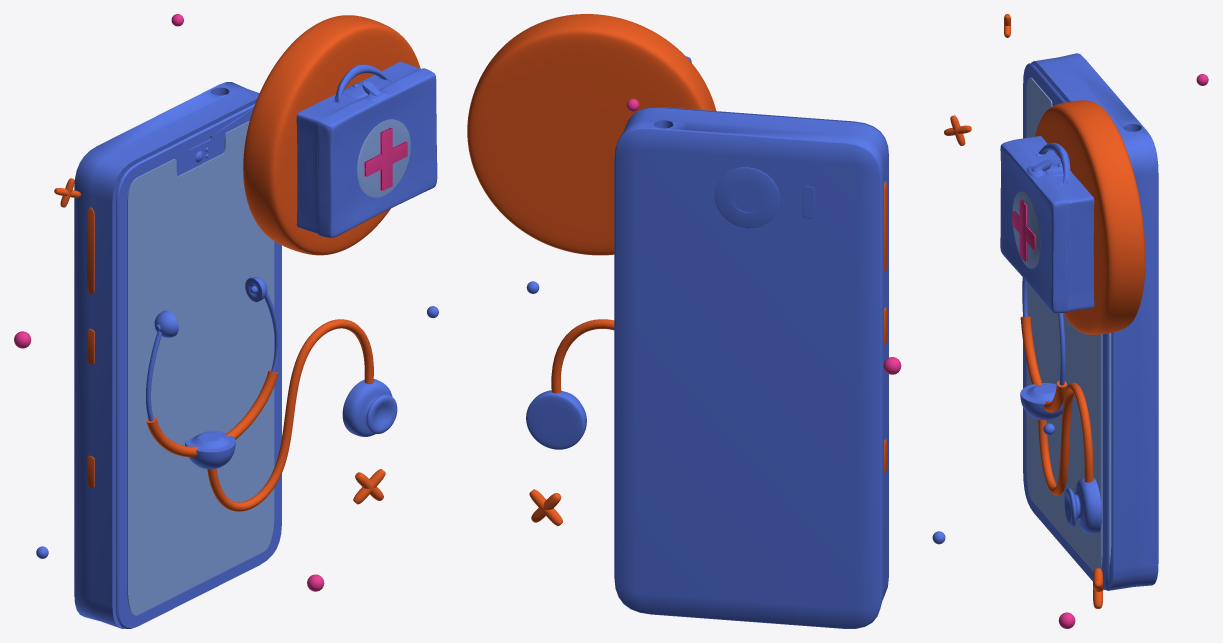
The model's file is digital-medicine-3d-animated-icon-837897220875.glb.
3 renders of one model, left to right at view 1: azimuth 30°, elevation 25°; view 2: azimuth 150°, elevation 25°; view 3: azimuth 270°, elevation 25°, orthographic. The views are drawn at different scales.
Parts seen in each view (by area): view 1: handphone, health suitcase, Cylinder, stetoskop, element plus; view 2: handphone, Cylinder, stetoskop, element plus; view 3: handphone, health suitcase, Cylinder, stetoskop, element plus.
Boxes of the visible parts, x1,y1,x2,y2 form: handphone: (74,82,281,628); health suitcase: (296,61,437,237); Cylinder: (243,15,420,255); stetoskop: (146,277,397,511); element plus: (353,469,385,504); handphone: (614,107,888,628); Cylinder: (467,14,716,255); stetoskop: (526,319,614,449); element plus: (529,489,562,526); handphone: (1023,53,1158,590); health suitcase: (1000,136,1094,313); Cylinder: (1035,100,1145,334); stetoskop: (1020,277,1101,533); element plus: (1093,568,1102,608).
Bounding box in the file's own units: 3.88 × 4.81 × 1.71.
